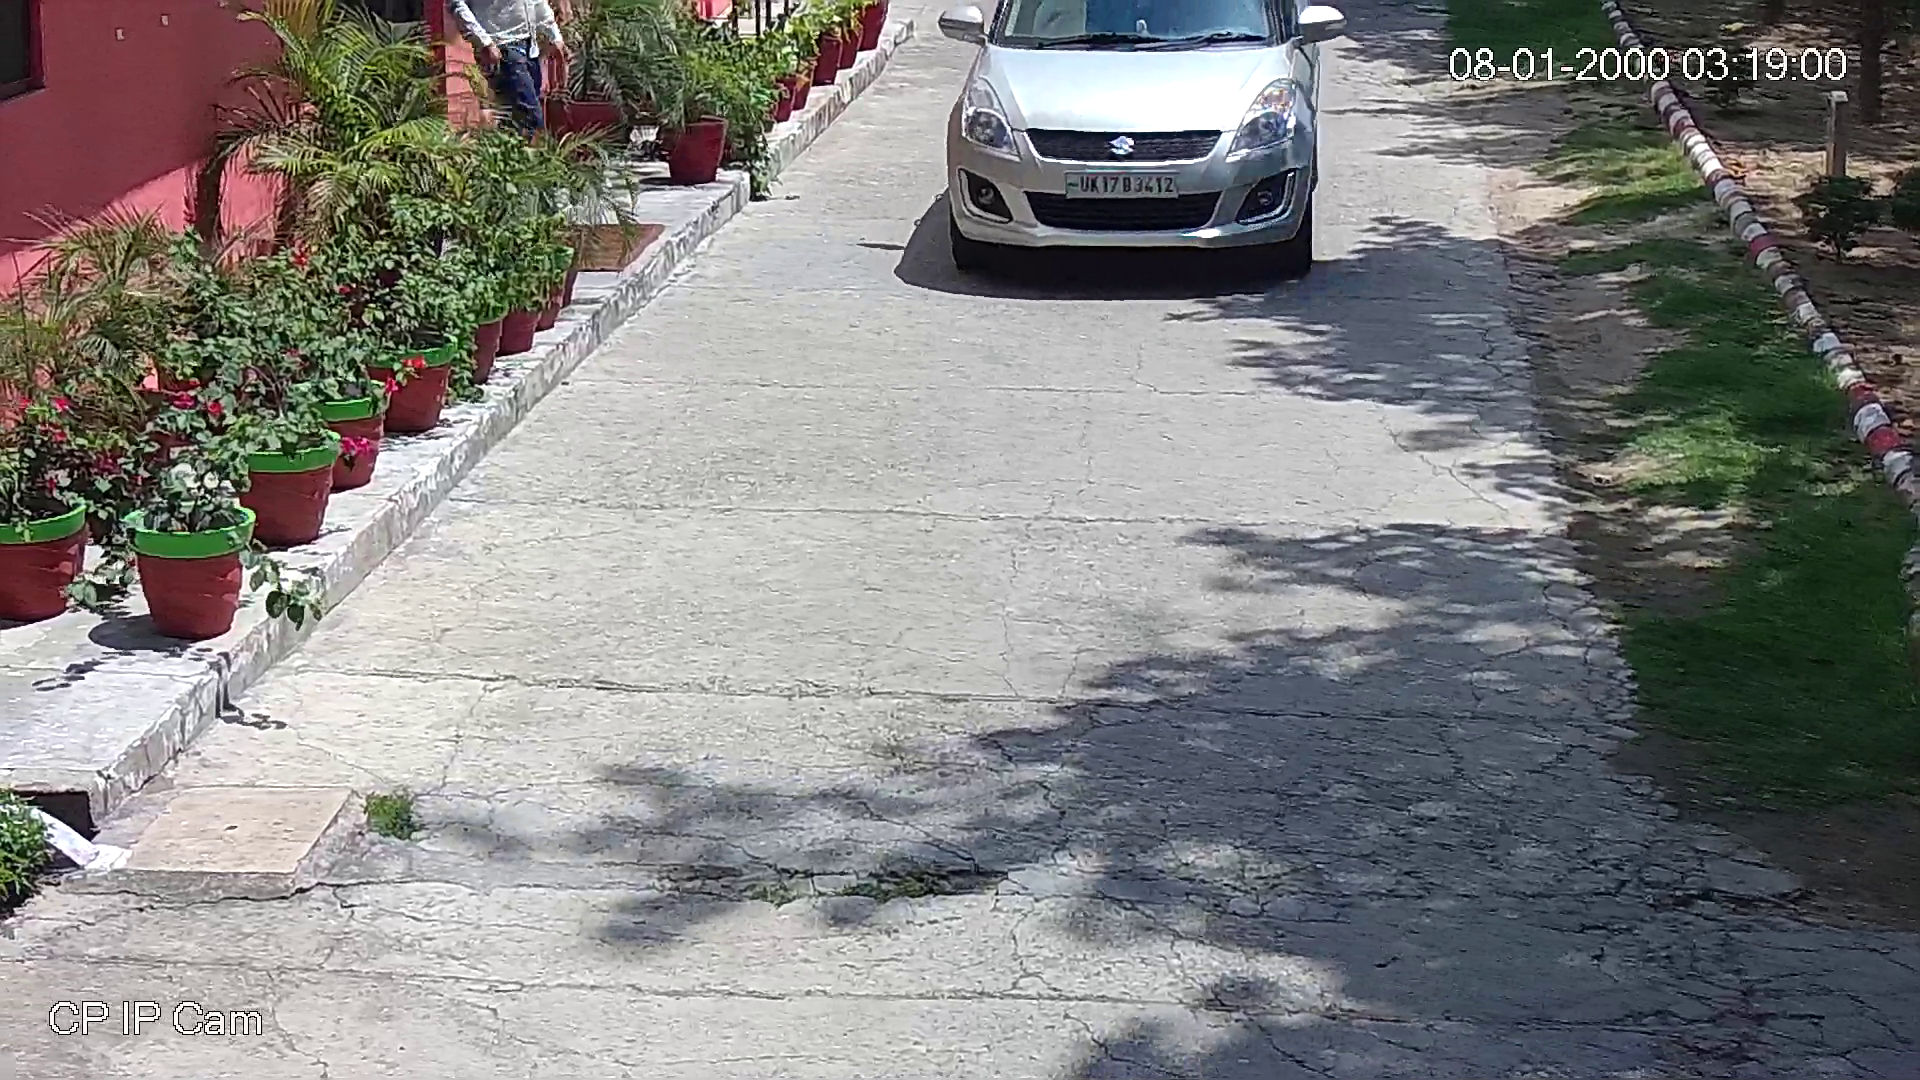plate: (1057, 162, 1192, 202)
